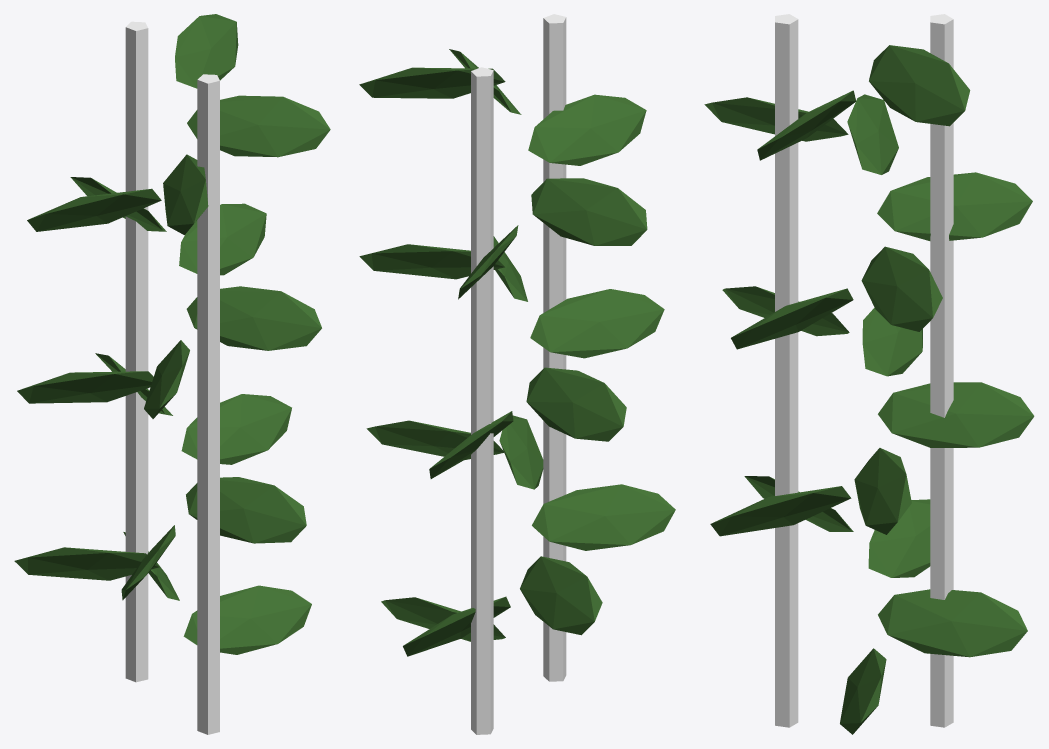
The model's file is ekin_salatalik_y.glb.
3 views of the same model, side by side, from view 1: azimuth 30°, elevation 25°; view 2: azimuth 150°, elevation 25°; view 3: azimuth 270°, elevation 25° (orthographic). The views are drawn at different scales.
Visible parts, largest first — view 1: Cubuk; view 2: Cubuk; view 3: Cubuk.
Boxes of the visible parts, bbox=[...] form: Cubuk: bbox=[14, 14, 330, 734]; Cubuk: bbox=[359, 14, 675, 734]; Cubuk: bbox=[704, 14, 1034, 734].
Size of the model in its own units: 0.1323 by 0.3 by 0.1276.
